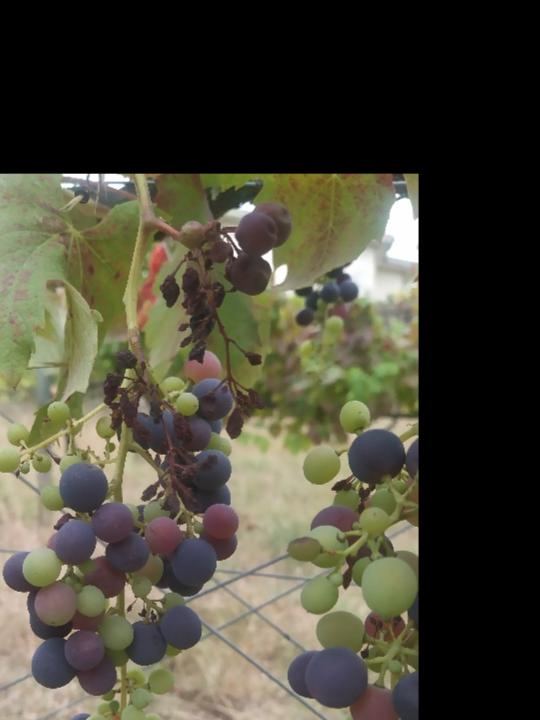grape: (0, 346, 240, 720), (288, 400, 417, 720), (158, 202, 294, 442)
